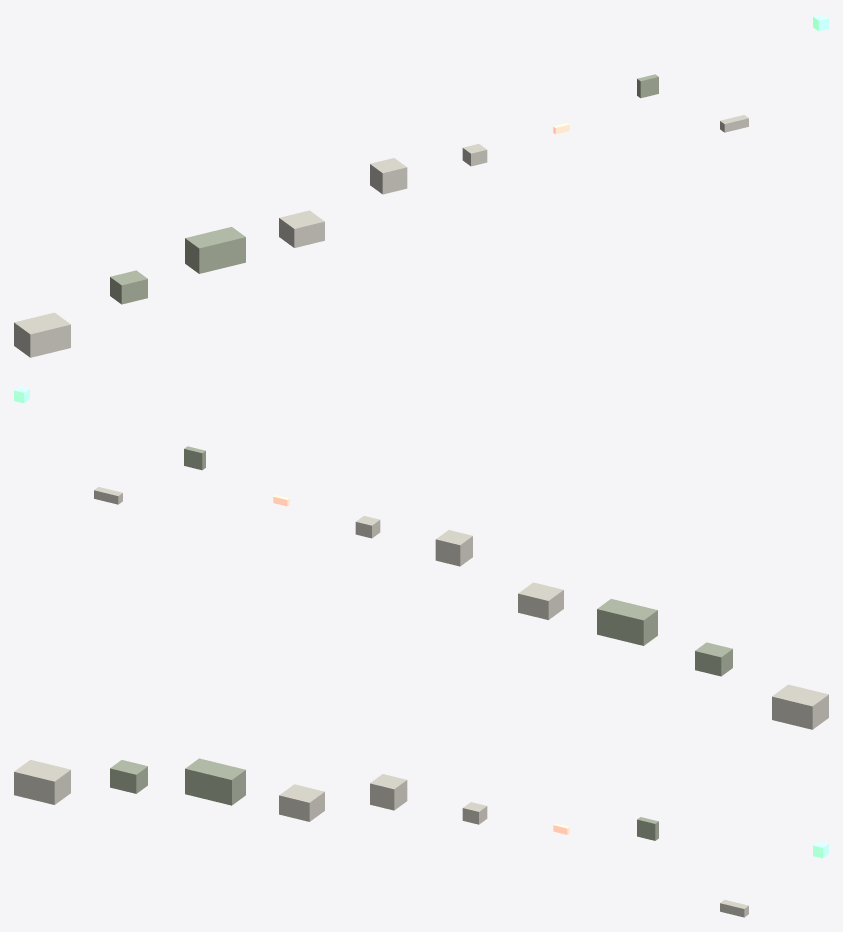
Rendered from aggy_voxel_zombie_skeleton_dog.glb.
The picture shows the model from 3 angles, top to bottom: view 1: azimuth 30°, elevation 25°; view 2: azimuth 150°, elevation 25°; view 3: azimuth 330°, elevation 25°; orthographic projection.
Visible parts, largest first — view 1: VXZ_Torso, VXZ_Legs_Four, VXZ_Ribcage, VXZ_Head, VXZ_Pelvis; view 2: VXZ_Torso, VXZ_Legs_Four, VXZ_Ribcage, VXZ_Head, VXZ_Pelvis; view 3: VXZ_Torso, VXZ_Legs_Four, VXZ_Ribcage, VXZ_Head, VXZ_Pelvis, VXZ_Muzzle, VXZ_Ears, VXZ_Tail.
Boxes of the visible parts, x1,y1,x2,y2 form: VXZ_Torso: (185,227,245,273); VXZ_Legs_Four: (14,312,70,357); VXZ_Ribcage: (279,210,324,247); VXZ_Head: (370,158,407,194); VXZ_Pelvis: (110,270,147,304); VXZ_Torso: (597,599,657,645); VXZ_Legs_Four: (772,684,828,729); VXZ_Ribcage: (518,582,563,619); VXZ_Head: (435,530,472,566); VXZ_Pelvis: (695,642,732,676); VXZ_Torso: (185,758,245,805); VXZ_Legs_Four: (14,759,70,804); VXZ_Ribcage: (279,784,324,821); VXZ_Head: (370,774,407,810); VXZ_Pelvis: (110,760,147,793); VXZ_Muzzle: (462,802,487,824); VXZ_Ears: (637,817,658,840); VXZ_Tail: (720,899,748,917).
Bounding box in the file's own units: 7.9 × 1.31 × 0.28.
